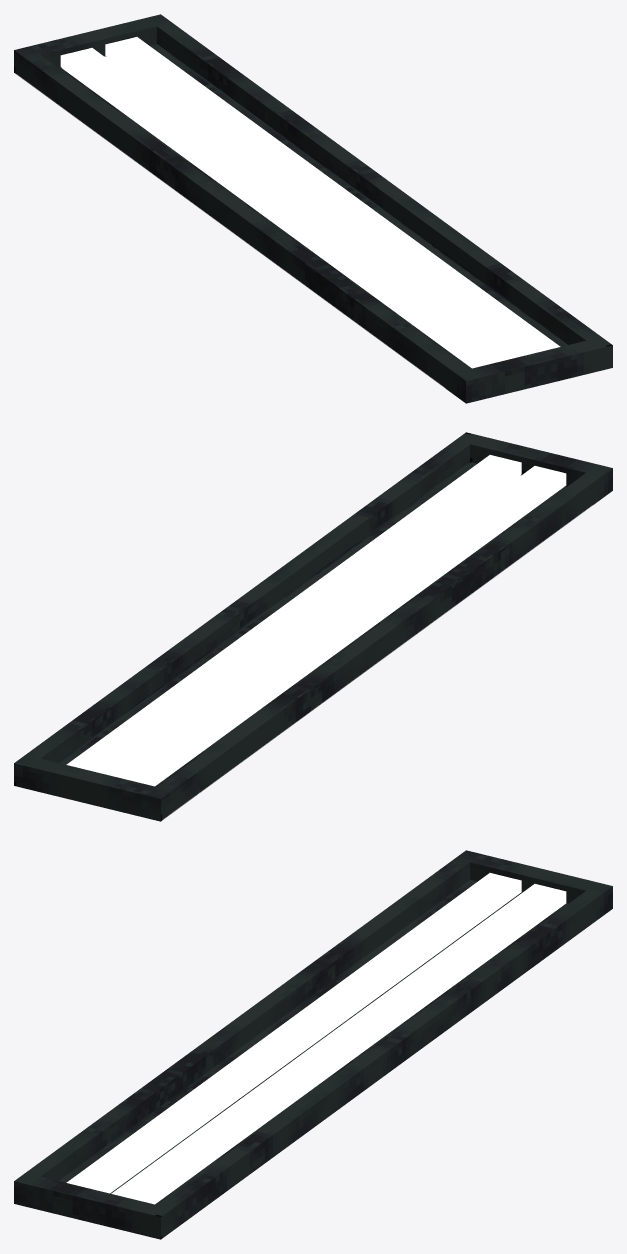
The model's file is lightBar.fbx.
3 renders of one model, top to bottom at view 1: azimuth 30°, elevation 25°; view 2: azimuth 150°, elevation 25°; view 3: azimuth 330°, elevation 25°, orthographic.
Parts seen in each view (by area): view 1: light bar; view 2: light bar; view 3: light bar.
Boxes of the visible parts, x1,y1,x2,y2 form: light bar: [14, 14, 612, 403]; light bar: [14, 432, 612, 821]; light bar: [14, 850, 612, 1239].
Size of the model in its own units: 1.6 by 0.3 by 0.0441.
